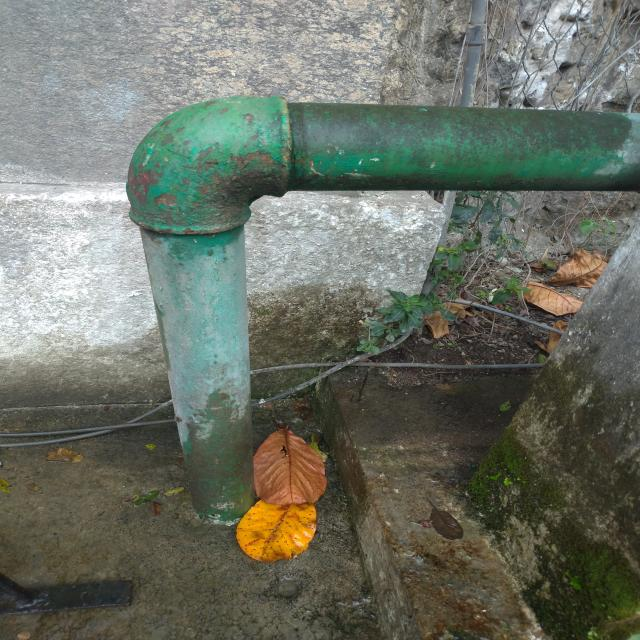gas: (127, 94, 294, 528), (123, 91, 640, 192)
